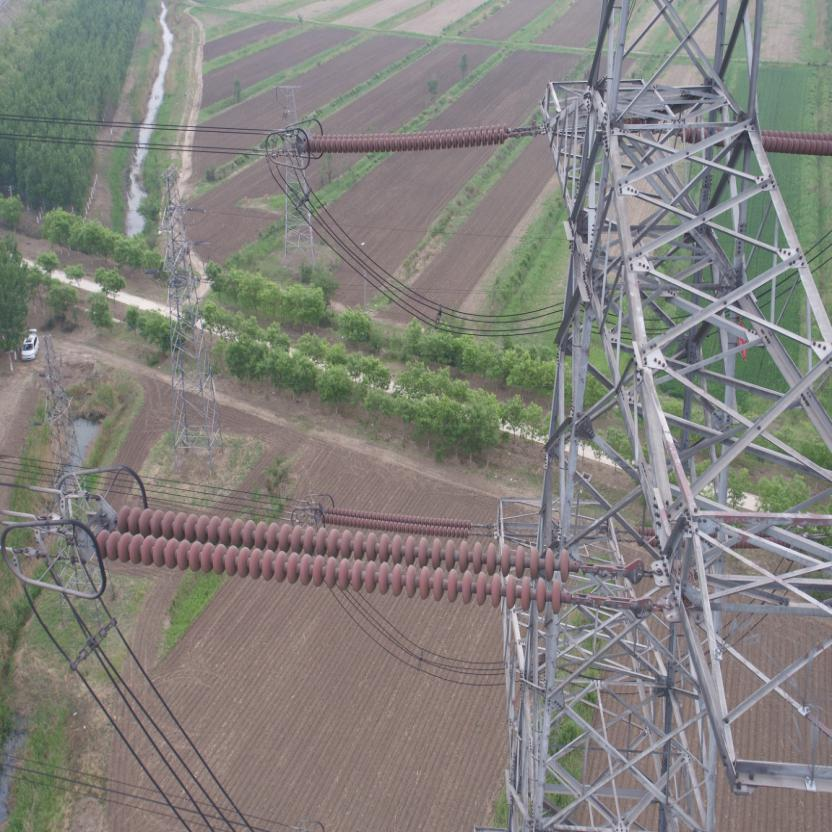insulator: (86, 493, 618, 615), (300, 119, 520, 158), (315, 503, 479, 539)
